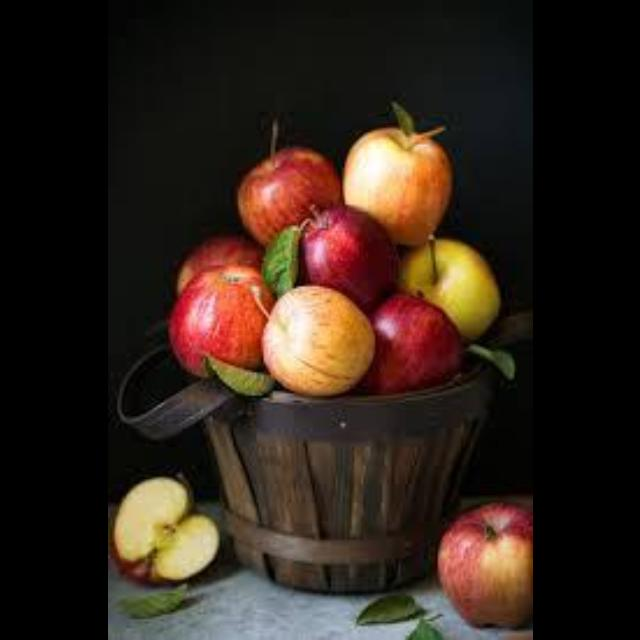apple: (342, 102, 451, 244), (237, 121, 340, 244), (261, 286, 372, 396), (168, 263, 272, 375), (437, 503, 531, 626), (112, 477, 216, 582), (398, 237, 498, 340), (300, 205, 396, 312), (361, 293, 461, 393), (174, 235, 261, 293)
